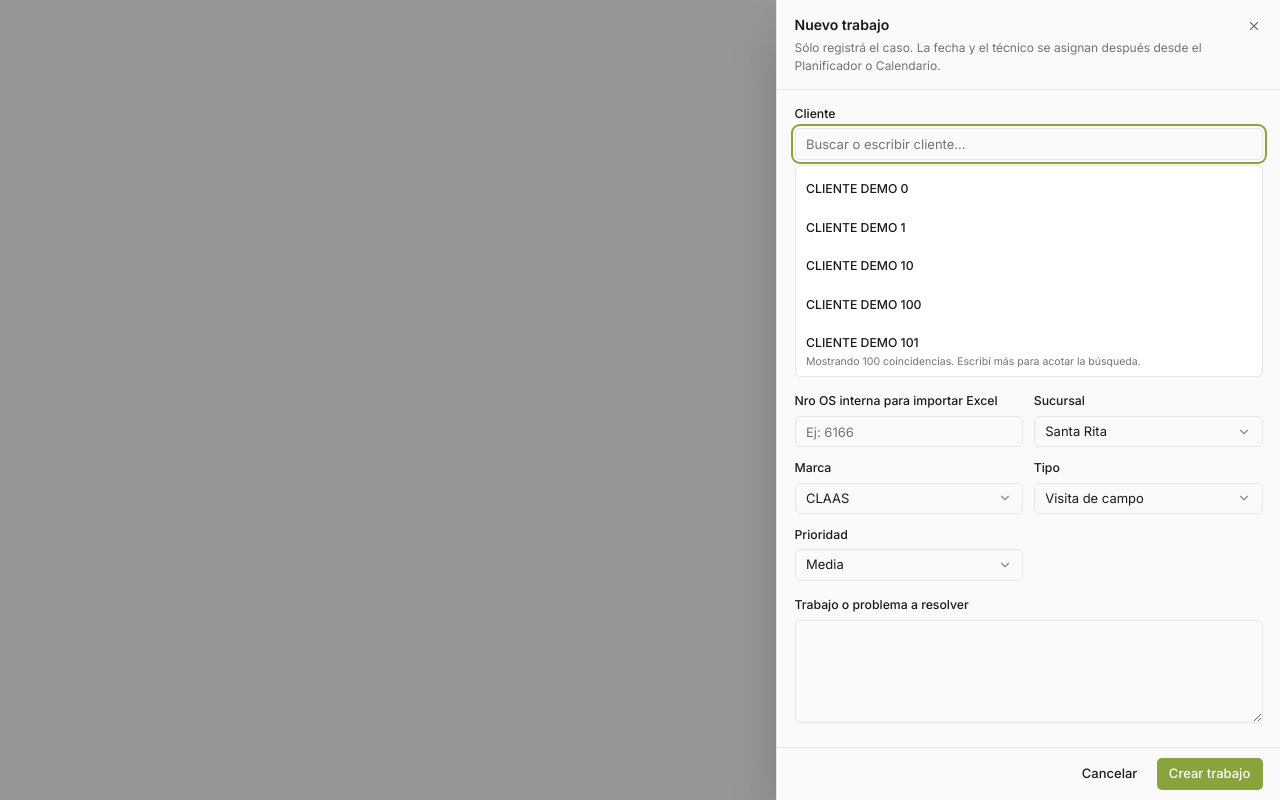
NuevoTrabajoDialog client identity › searches the whole catalog before limiting displayed matches
In the dropdown labelled "Cliente": (1028, 144) [794,128,1262,160], type "CLIENTE DEMO 119"
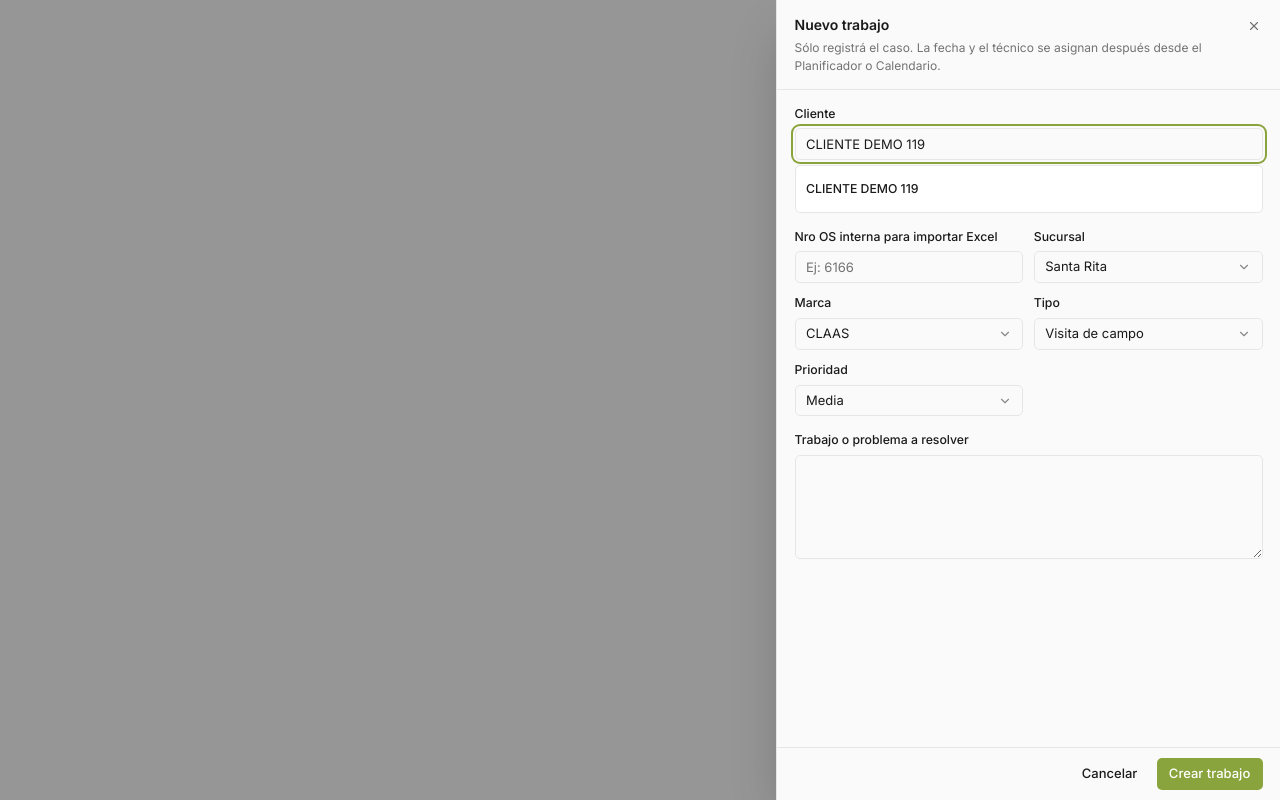
Result: the number of options is 1 at [799,170,1258,208]
Result: the option reads "CLIENTE DEMO 119" at [799,170,1258,208]
